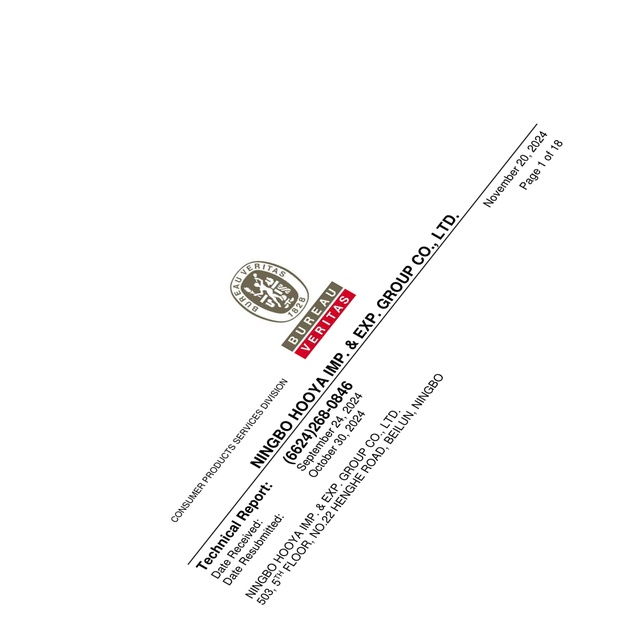bureau_veritas: (225, 258, 358, 359)
